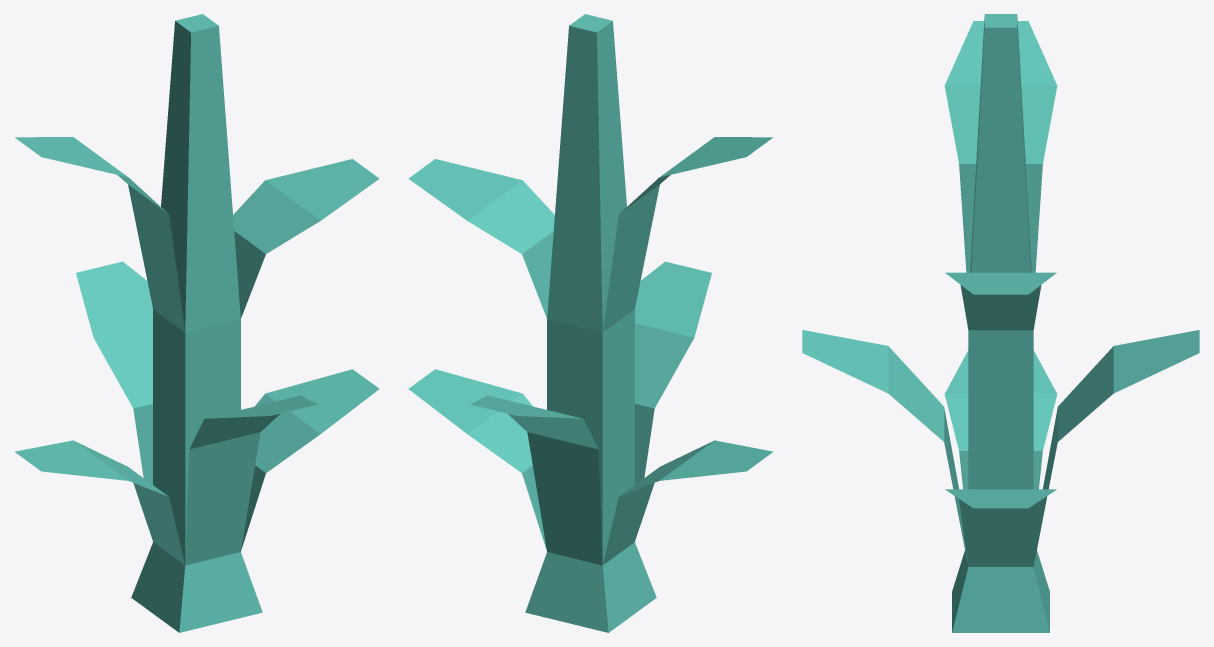
File: crops_cornStageA.glb
3 renders of one model, left to right at view 1: azimuth 30°, elevation 25°; view 2: azimuth 150°, elevation 25°; view 3: azimuth 270°, elevation 25°, orthographic.
Visible parts, largest first — view 1: crops_cornStageA; view 2: crops_cornStageA; view 3: crops_cornStageA.
Boxes of the visible parts, <box> form: crops_cornStageA: <box>14,14,379,632</box>; crops_cornStageA: <box>408,14,773,632</box>; crops_cornStageA: <box>802,14,1199,632</box>.
Size of the model in its own units: 0.3042 by 0.5 by 0.3042.
